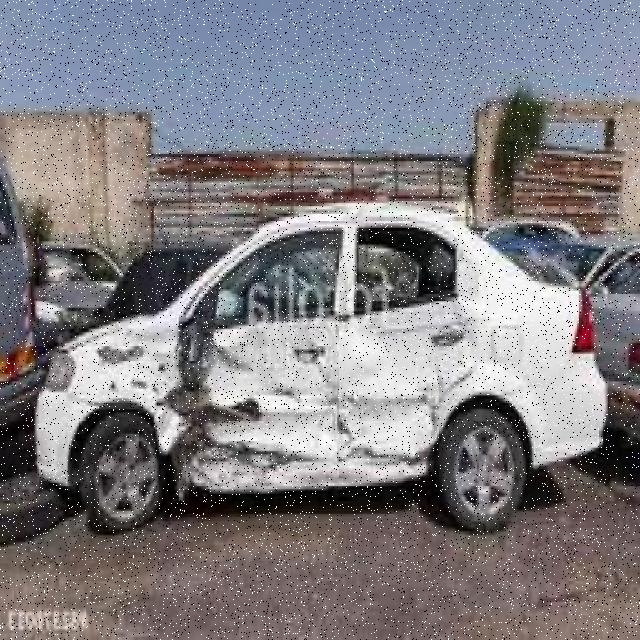damage: (69, 289, 484, 493)
